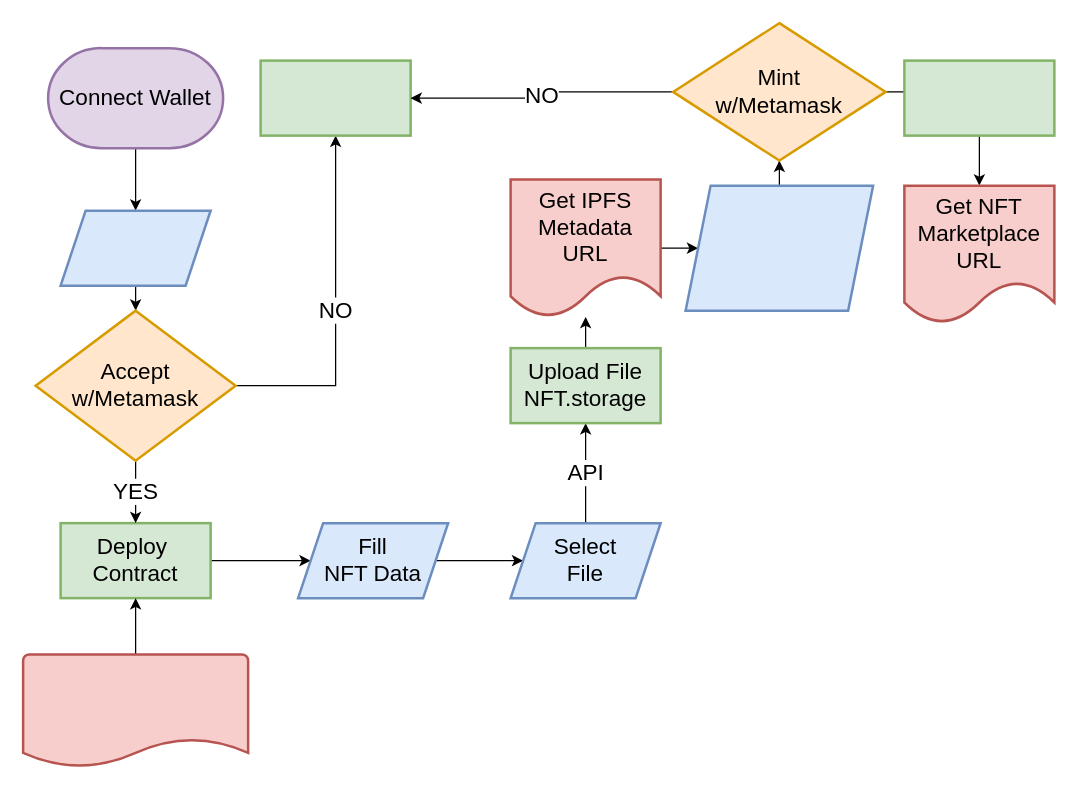
The diagram is 1076 pixels wide and 789 high, and some of its shapes have lost their labels. The centre of each missing label's shape, as x and y in pixels:
"Cancel Upload" goes at point (335, 97).
"NFT minting" goes at point (978, 97).
"Remix precompiled Contract" goes at point (135, 710).
"Review and setup price" goes at point (779, 247).
"Review Contract" goes at point (135, 247).
